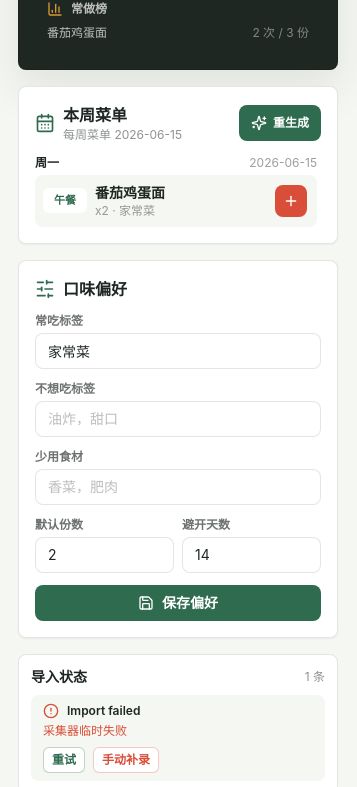
it: App › retries failed import jobs without losing the failed record
(page scrolled)
Click the button "重试" at (64, 760), box [43,746,85,772]
(page scrolled)
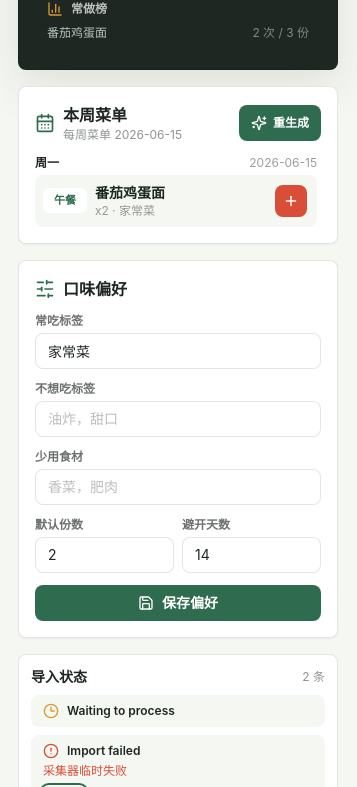
Check: the text "Import failed" is shown, box [67,742,140,758]
Check: the text "Waiting to process" is shown, box [67,702,175,718]
